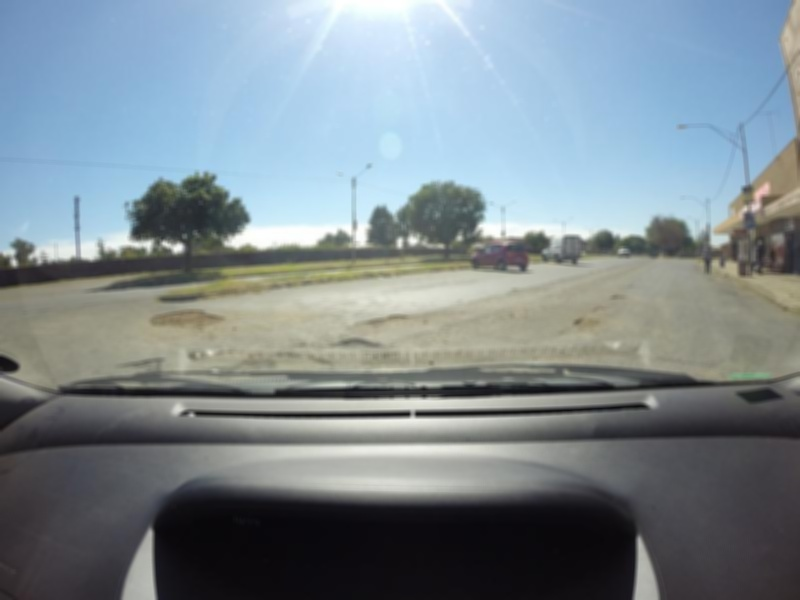pothole: (132, 301, 243, 332), (357, 309, 417, 324), (115, 352, 176, 365), (328, 332, 388, 345), (570, 314, 597, 327)
